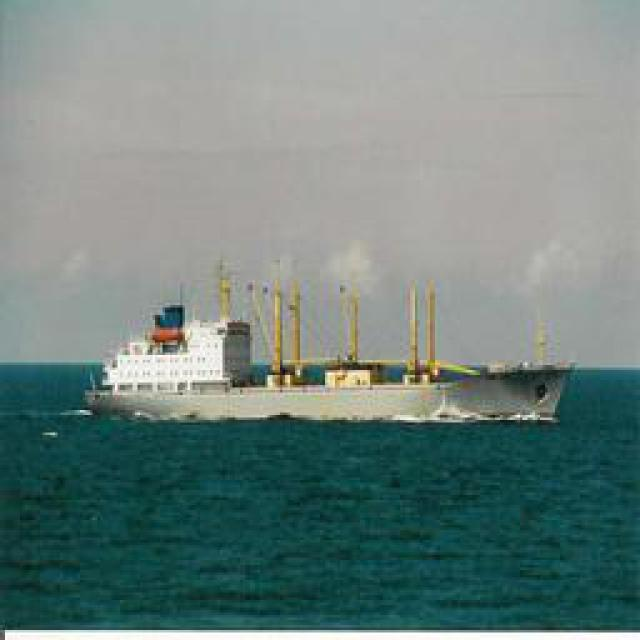Ship: (82, 304, 575, 424)
